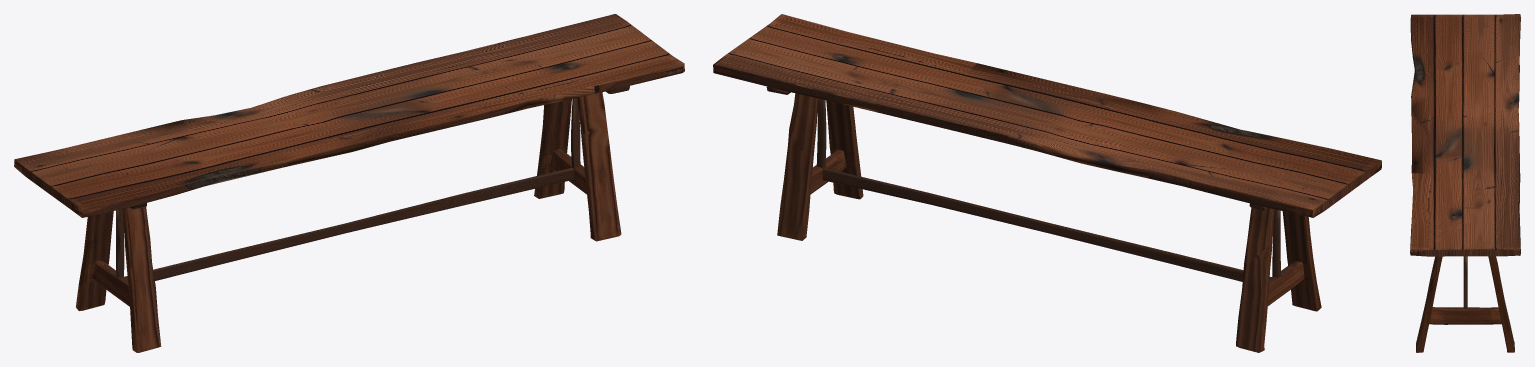
The model's file is bench.glb.
3 renders of one model, left to right at view 1: azimuth 30°, elevation 25°; view 2: azimuth 150°, elevation 25°; view 3: azimuth 270°, elevation 25°, orthographic. The views are drawn at different scales.
Size of the model in its own units: 1.8 by 0.46 by 0.36.
Materials: 1 (1 with a texture image).
